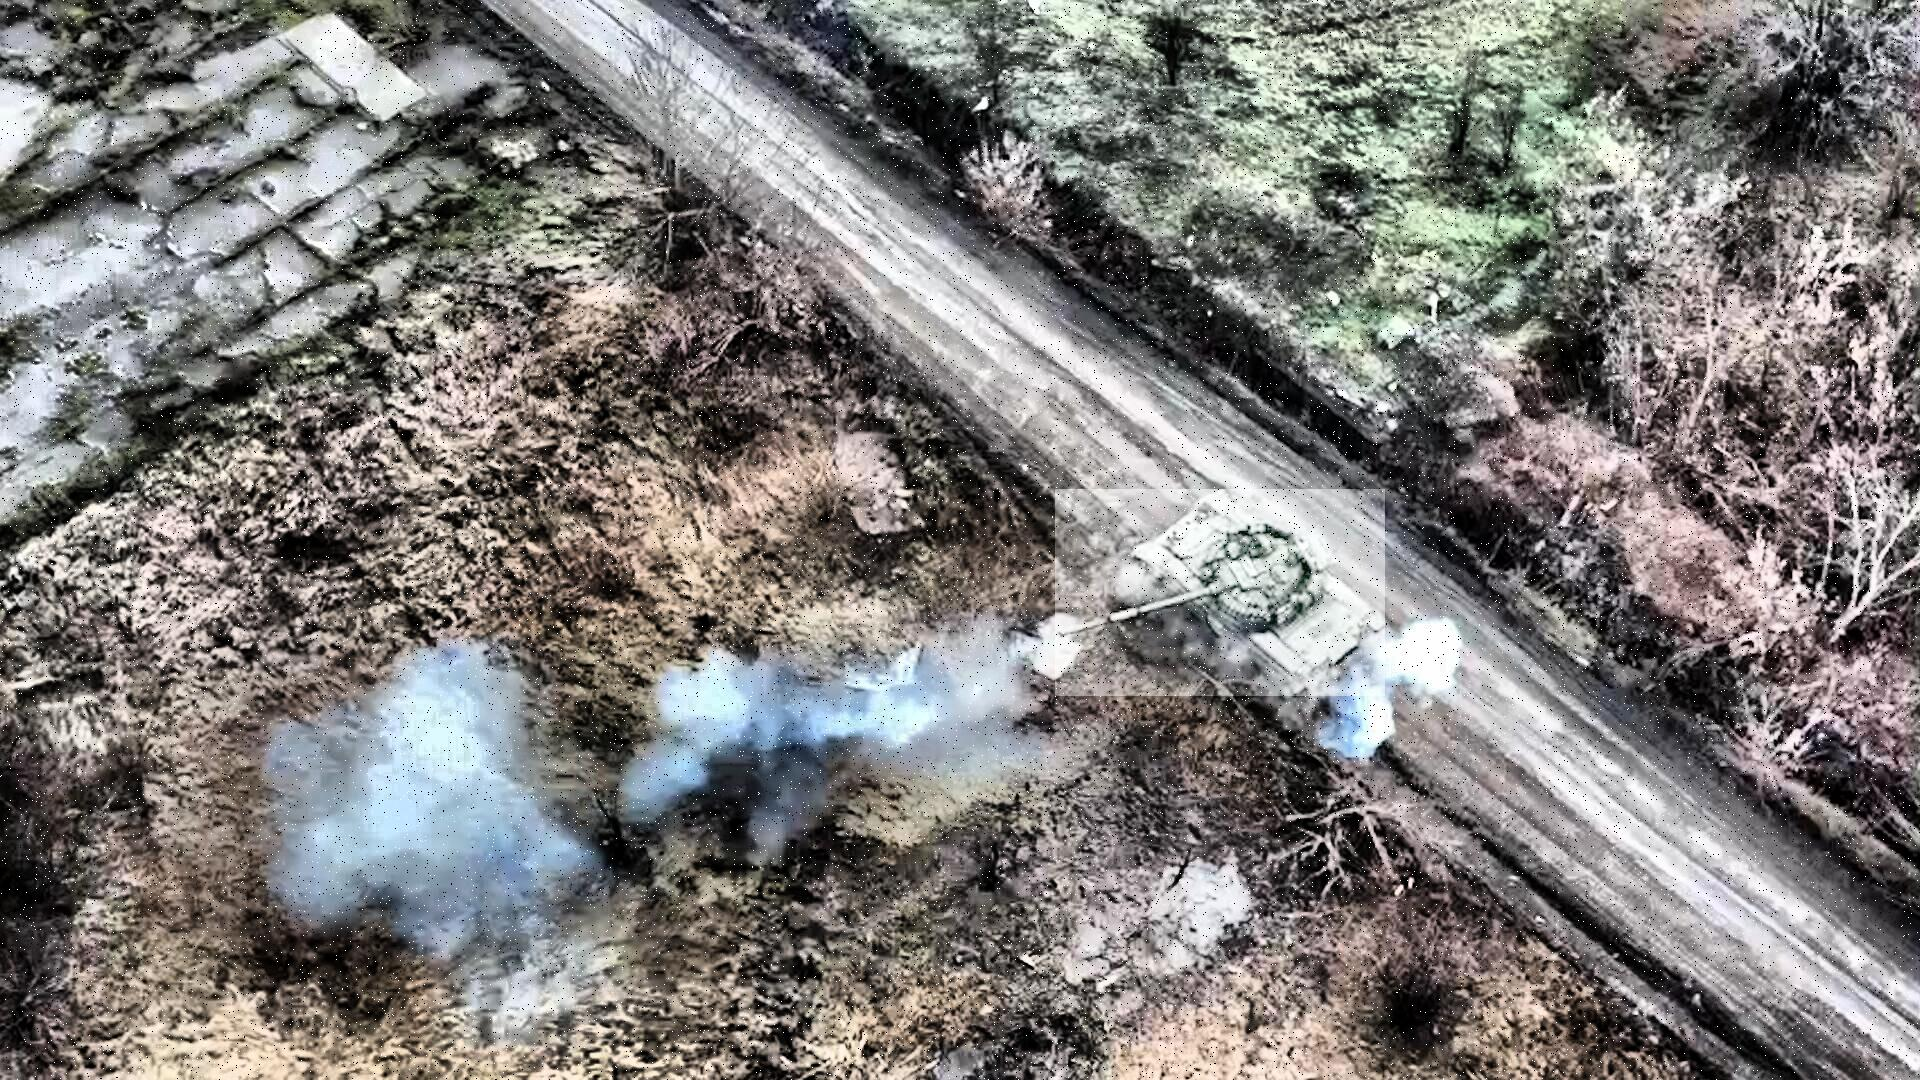military-vehicle: (1055, 491, 1385, 696)
